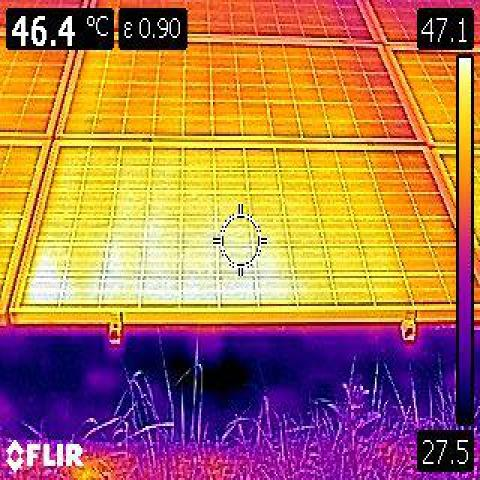fault: (140, 274, 268, 301), (29, 255, 64, 307)
